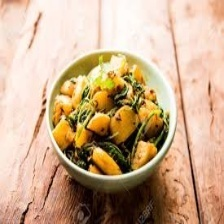sabzi: (49, 51, 173, 180)
